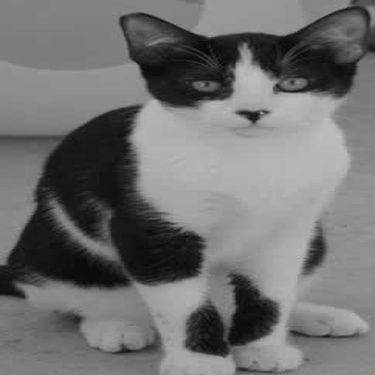cat: (3, 3, 364, 350)
